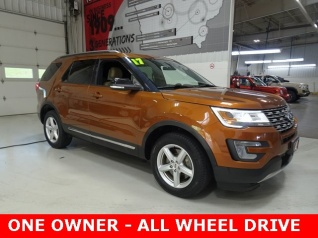Ford Explorer: (33, 48, 302, 200)
